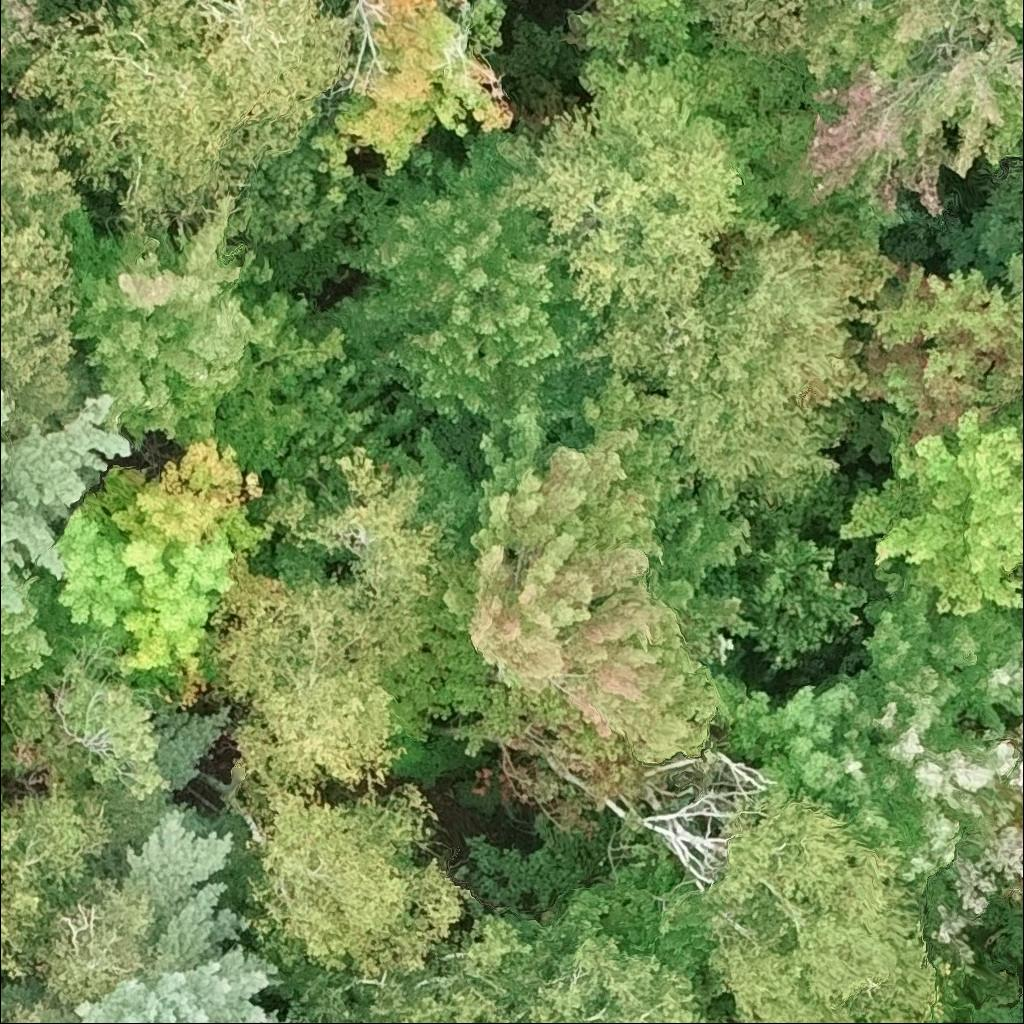crown: (733, 555, 1023, 971), (463, 370, 755, 766), (324, 118, 612, 478), (570, 209, 906, 506), (0, 705, 308, 1023), (62, 196, 390, 477), (512, 48, 754, 325), (54, 435, 278, 708), (777, 0, 1023, 237), (709, 778, 945, 1023), (9, 0, 253, 231), (269, 900, 726, 1023), (205, 548, 425, 801), (240, 773, 475, 978), (833, 403, 1023, 615), (308, 0, 516, 183), (151, 0, 354, 167), (854, 250, 1023, 442), (0, 388, 134, 616), (0, 779, 112, 984), (0, 192, 80, 426), (31, 871, 150, 999), (0, 106, 89, 236), (0, 560, 91, 686), (562, 0, 704, 67), (692, 0, 839, 56), (997, 0, 1023, 39), (0, 1003, 47, 1023), (1016, 457, 1023, 474), (1019, 417, 1023, 437), (1017, 888, 1023, 894), (1022, 980, 1023, 983), (1022, 1007, 1023, 1009)
